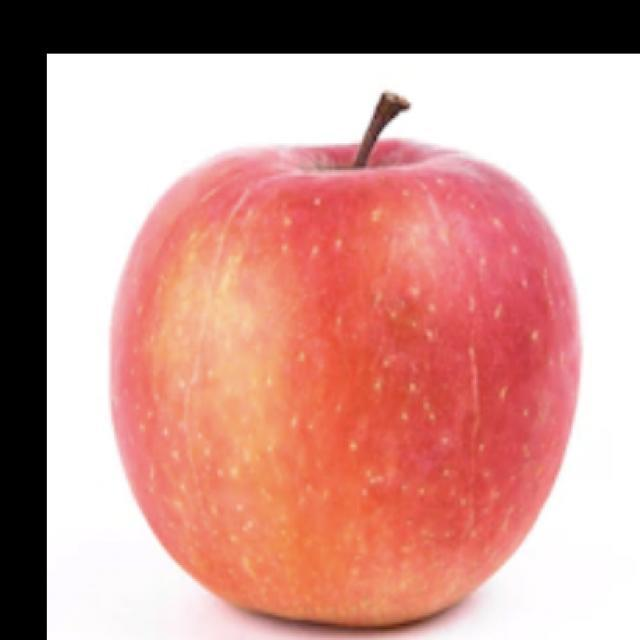Fresh Apple: (111, 122, 579, 640)
